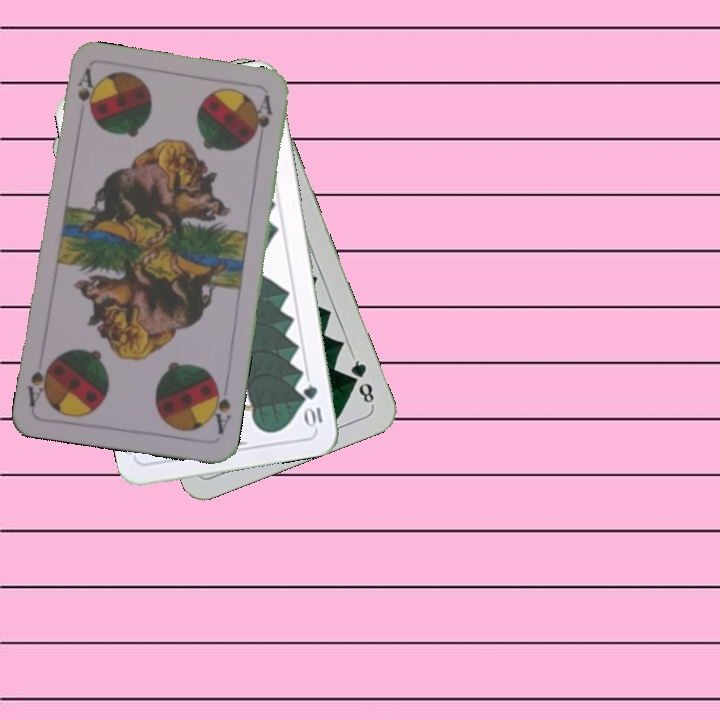G10: (299, 381, 325, 430)
G8: (346, 352, 377, 409)
SA: (206, 378, 234, 437), (73, 65, 96, 114)
